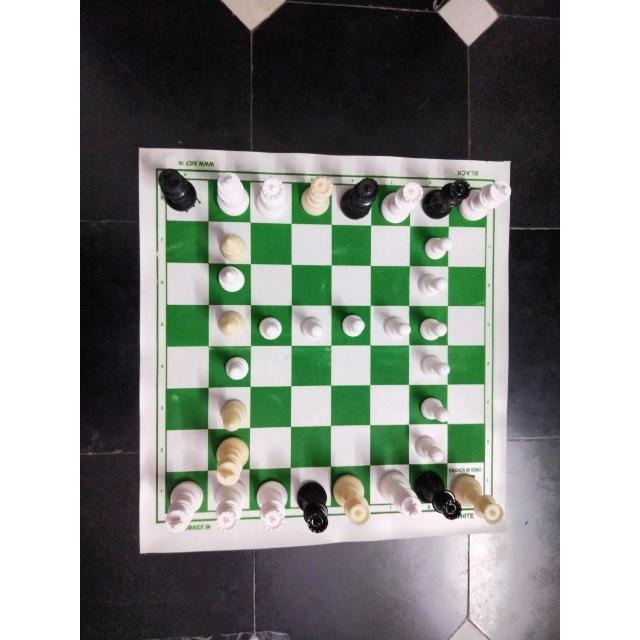black-king: (155, 169, 196, 213)
black-queen: (415, 471, 462, 521), (294, 478, 330, 534), (421, 179, 470, 220), (340, 175, 380, 219)
white-bishop: (214, 392, 249, 432), (214, 225, 249, 263), (214, 307, 250, 343), (213, 263, 245, 297)
white-king: (155, 476, 207, 541), (372, 471, 424, 525), (212, 433, 251, 485), (465, 177, 510, 221), (212, 171, 249, 217)
white-pawn: (412, 432, 450, 463), (376, 311, 411, 344), (416, 352, 452, 384), (414, 393, 449, 424), (417, 233, 454, 262), (218, 352, 252, 383), (415, 271, 448, 301), (256, 312, 283, 344), (416, 315, 448, 342), (299, 312, 327, 342), (335, 310, 365, 338)
white-queen: (455, 474, 504, 526), (252, 478, 290, 530), (333, 474, 370, 526), (381, 181, 421, 225), (254, 174, 288, 222), (297, 173, 333, 217), (214, 482, 246, 530)
